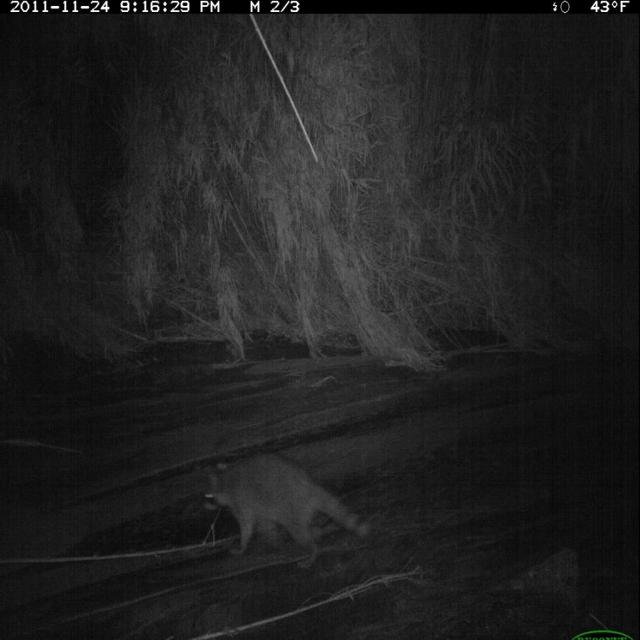raccoon: (198, 444, 376, 581)
